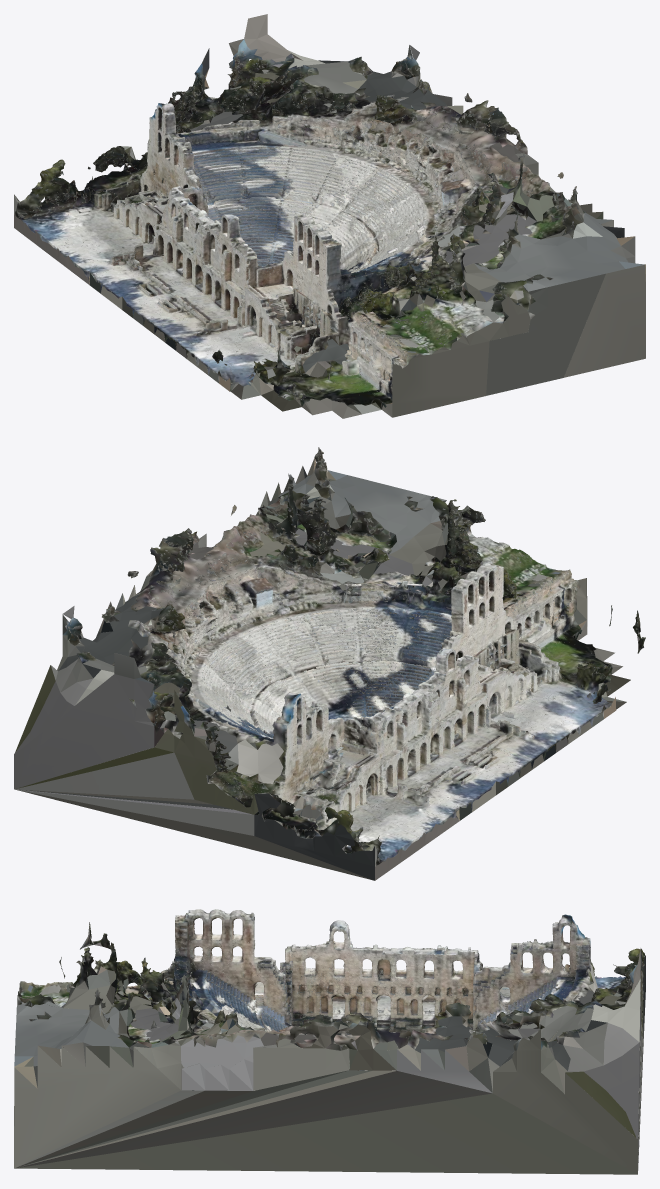
File: hill.glb
3 renders of one model, top to bottom at view 1: azimuth 30°, elevation 25°; view 2: azimuth 150°, elevation 25°; view 3: azimuth 270°, elevation 25°, orthographic. The views are drawn at different scales.
Visible parts, largest first — view 1: Object_5, Object_4, Object_12, Object_6, Object_7, Object_2, Object_11, Object_9, Object_3, Object_8, Object_10, Object_13 (+2 smaller); view 2: Object_12, Object_5, Object_4, Object_11, Object_7, Object_9, Object_6, Object_8, Object_2, Object_10, Object_3, Object_14 (+2 smaller); view 3: Object_12, Object_5, Object_7, Object_9, Object_4, Object_6, Object_8, Object_11, Object_10, Object_2, Object_14, Object_3 (+2 smaller).
Part boxes in pixels (x1=…): Object_5: x1=53, y1=67, x2=628, y2=398; Object_4: x1=90, y1=55, x2=579, y2=417; Object_12: x1=17, y1=48, x2=645, y2=400; Object_6: x1=100, y1=61, x2=530, y2=372; Object_7: x1=89, y1=50, x2=618, y2=418; Object_2: x1=123, y1=46, x2=523, y2=400; Object_11: x1=16, y1=14, x2=517, y2=399; Object_9: x1=14, y1=45, x2=519, y2=342; Object_3: x1=41, y1=39, x2=525, y2=390; Object_8: x1=130, y1=59, x2=564, y2=379; Object_10: x1=36, y1=63, x2=563, y2=411; Object_13: x1=34, y1=39, x2=509, y2=406; Object_12: x1=14, y1=455, x2=641, y2=880; Object_5: x1=83, y1=475, x2=611, y2=839; Object_4: x1=16, y1=464, x2=640, y2=836; Object_11: x1=14, y1=502, x2=645, y2=863; Object_7: x1=75, y1=489, x2=622, y2=819; Object_9: x1=48, y1=503, x2=543, y2=880; Object_6: x1=83, y1=497, x2=547, y2=802; Object_8: x1=61, y1=500, x2=612, y2=808; Object_2: x1=76, y1=484, x2=607, y2=811; Object_10: x1=151, y1=473, x2=630, y2=849; Object_3: x1=114, y1=494, x2=643, y2=837; Object_14: x1=128, y1=447, x2=592, y2=866; Object_12: x1=14, y1=918, x2=645, y2=1174; Object_5: x1=14, y1=917, x2=594, y2=1090; Object_7: x1=14, y1=960, x2=640, y2=1168; Object_9: x1=112, y1=915, x2=644, y2=1174; Object_4: x1=17, y1=924, x2=643, y2=1161; Object_6: x1=18, y1=915, x2=593, y2=1070; Object_8: x1=17, y1=934, x2=607, y2=1068; Object_11: x1=92, y1=933, x2=641, y2=1166; Object_10: x1=55, y1=944, x2=639, y2=1048; Object_2: x1=115, y1=914, x2=642, y2=1062; Object_14: x1=60, y1=909, x2=644, y2=1037; Object_3: x1=69, y1=911, x2=644, y2=1070.
Size of the model in its own units: 22.46 by 9.66 by 32.02.
1 material, 1 textured.
